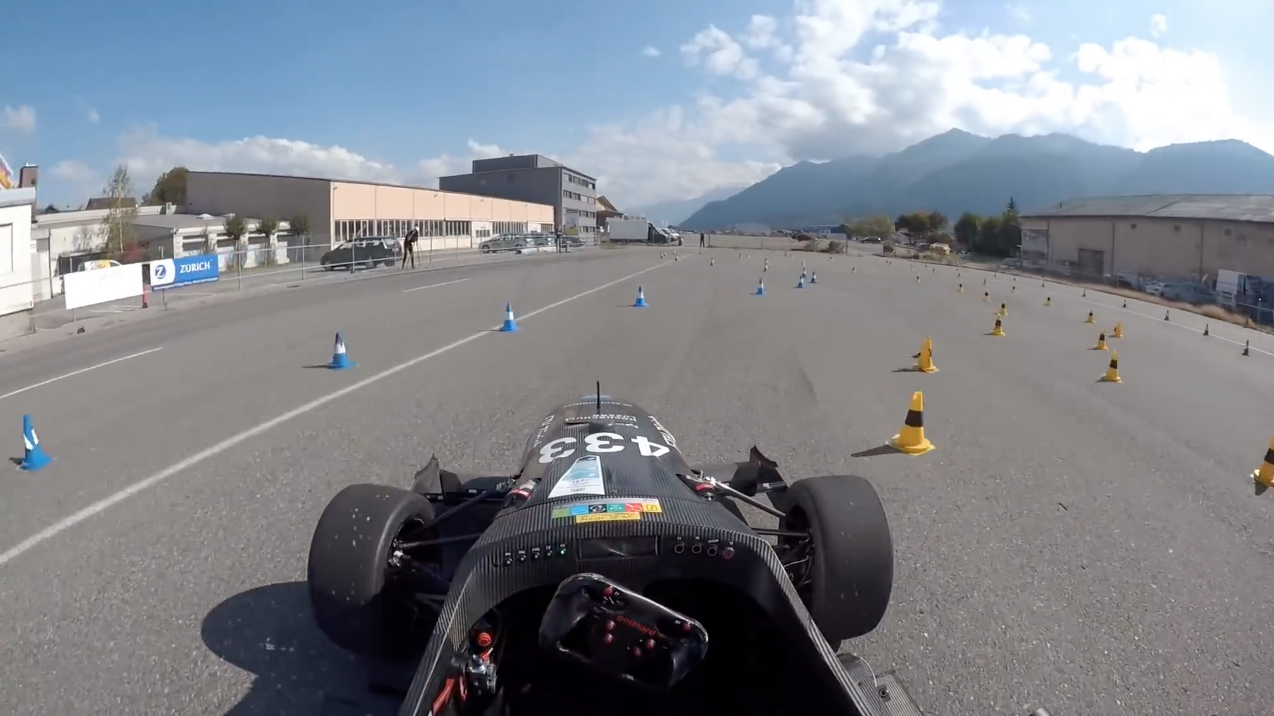lcone: (12, 410, 58, 475), (325, 328, 361, 372), (496, 297, 526, 338)
rcone: (885, 390, 941, 458), (908, 331, 947, 376), (1100, 350, 1126, 386)
